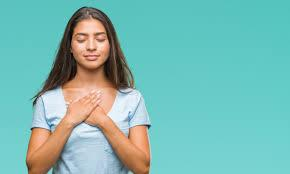person: (57, 0, 127, 76)
